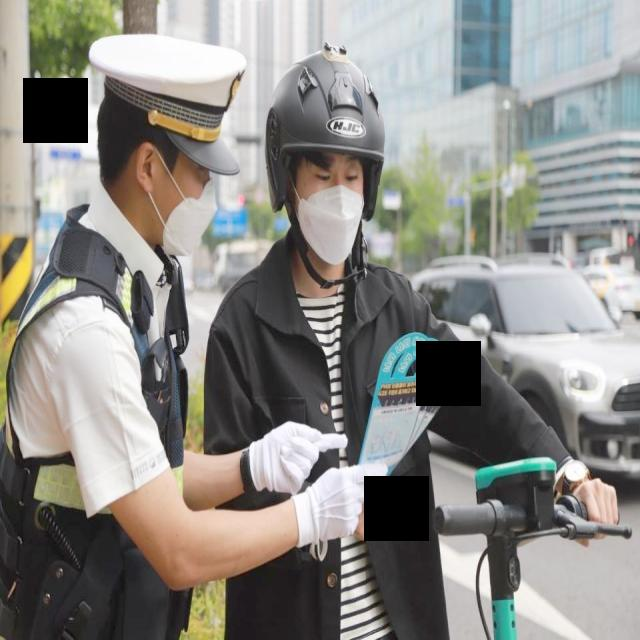Helmet: (264, 44, 386, 266)
